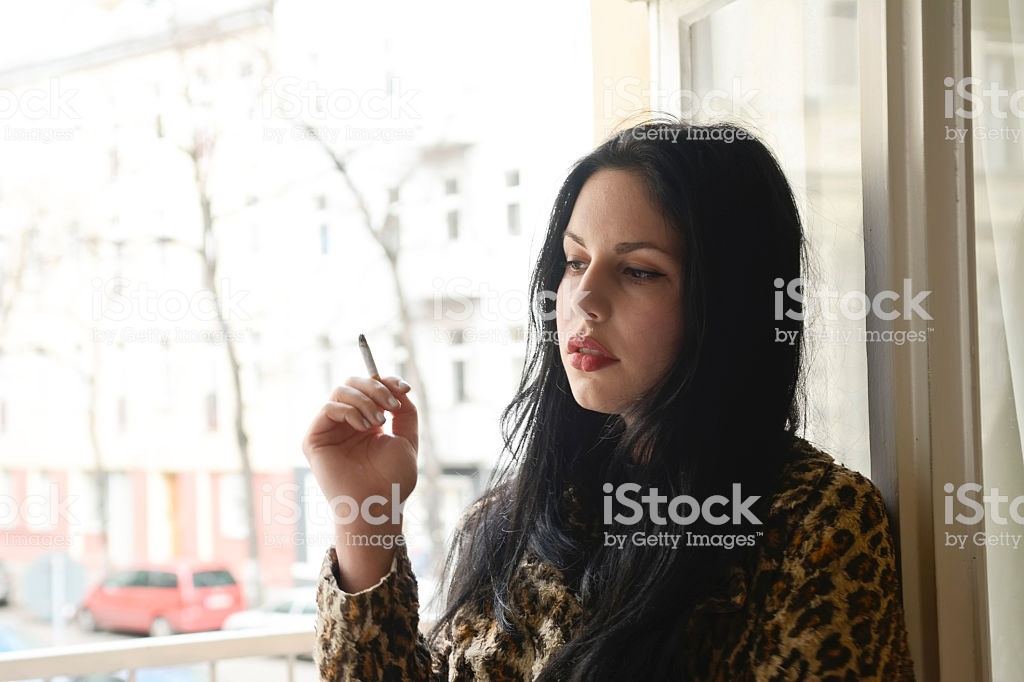sigaretta: (353, 333, 400, 411)
